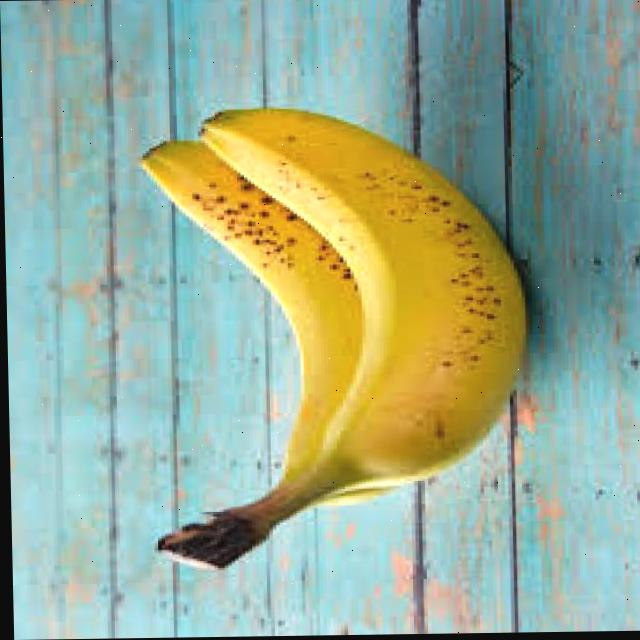banana: (107, 95, 548, 575)
